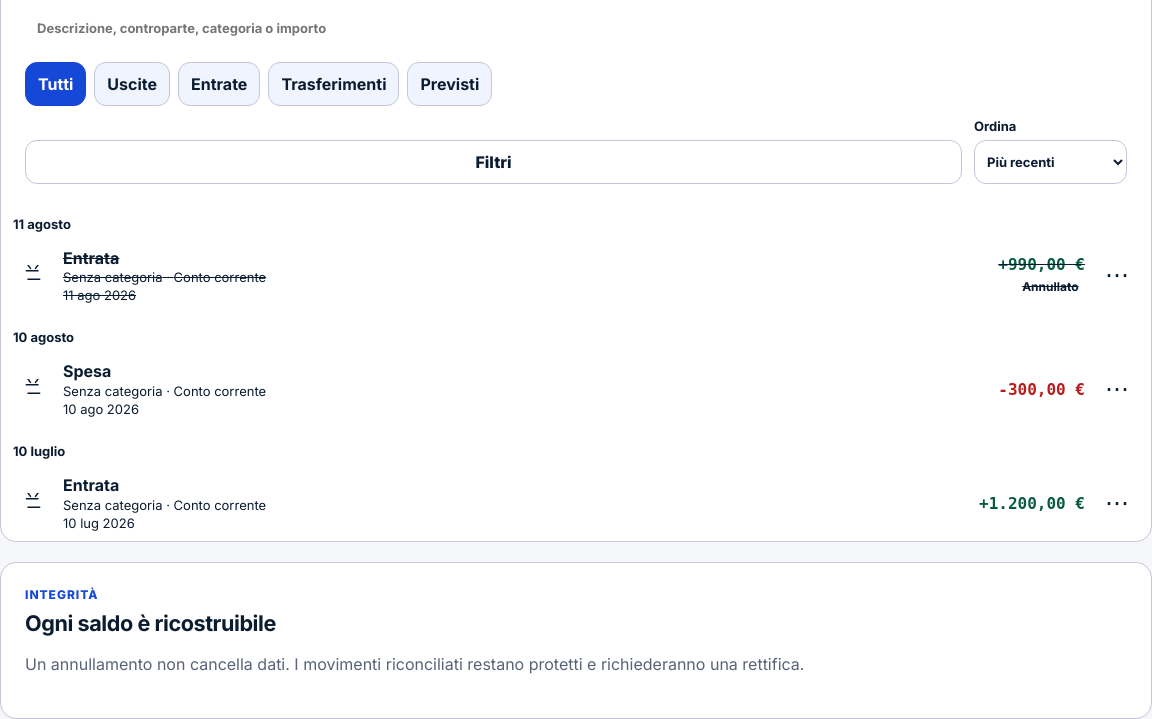
Test: TransactionsPage › opens a transaction detail and restores focus to its row when closed with Escape
The image size is (1152, 719).
(page scrolled)
Click the button "Spesa".
click(87, 371)  # box [63,361,988,417]
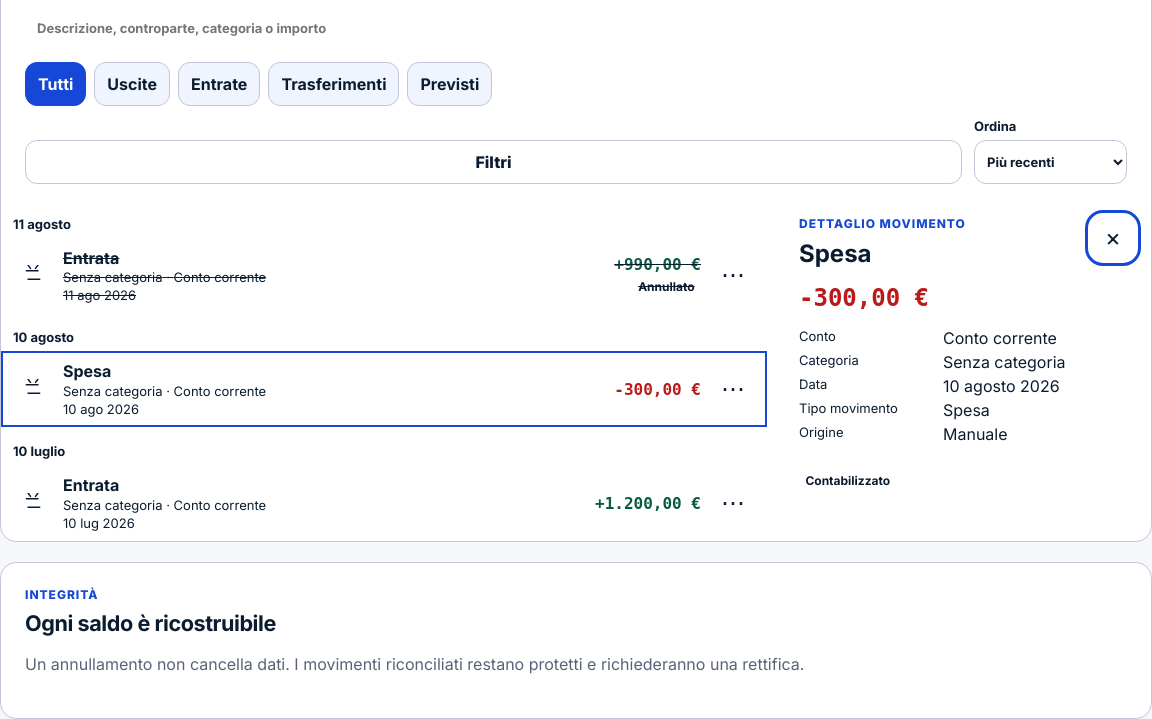
Check: the heading "Spesa" is shown, box [799,239,872,268]
Check: the text "Dettaglio movimento" is shown, box [799,216,966,231]
Press Escape
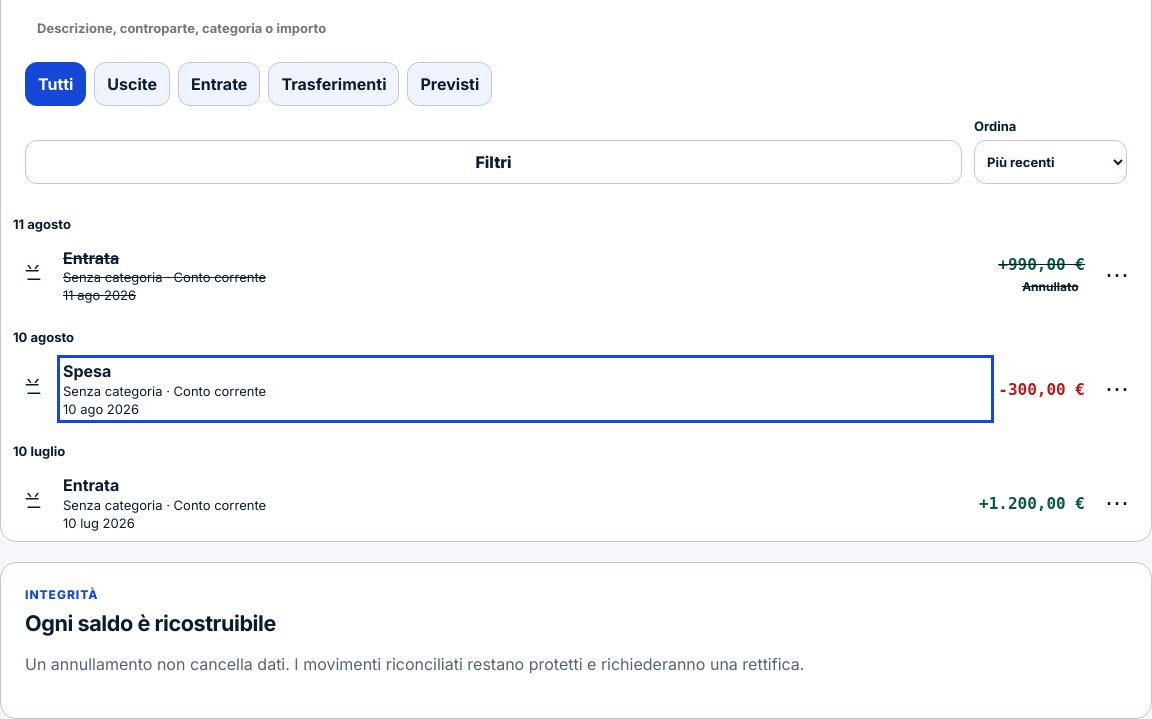
Check: the text "Dettaglio movimento" is gone
